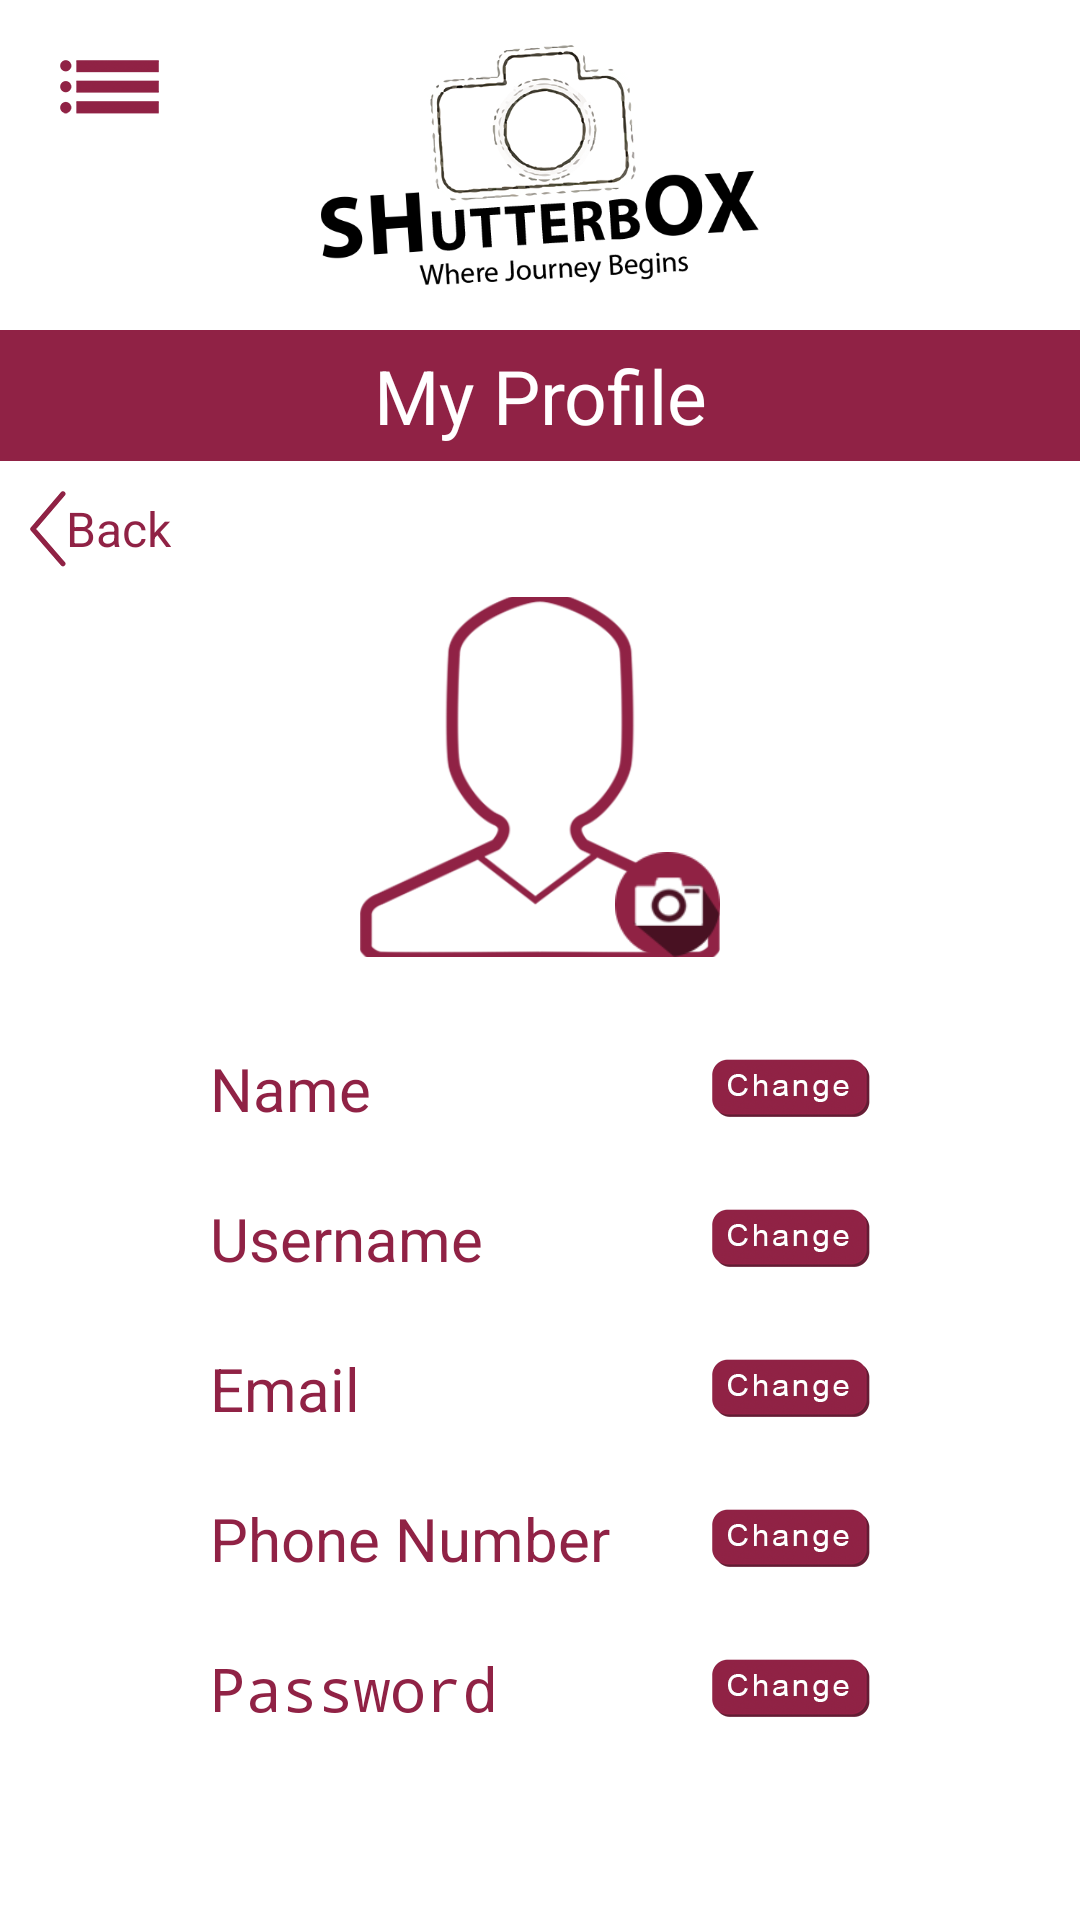

Point at icon controls on the screen. Image size 1080x1920, points as (x=x, y=y).
camera: (x=667, y=904)
drawer: (x=109, y=87)
